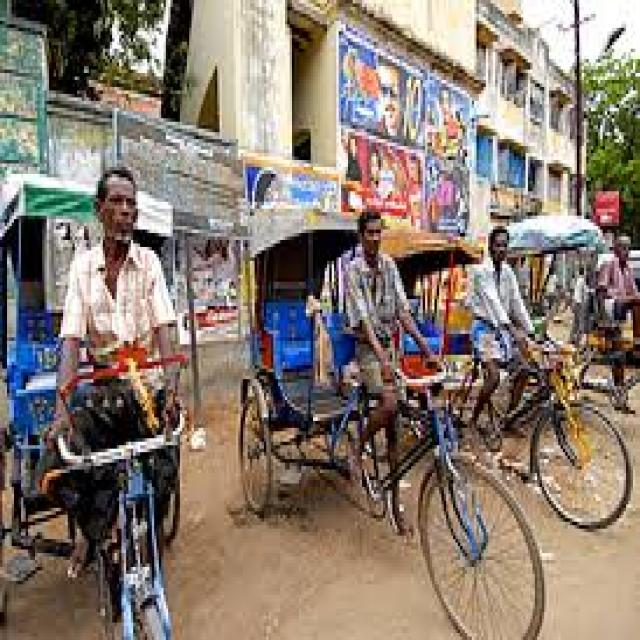bicycle: (239, 210, 545, 638), (0, 166, 185, 639), (384, 227, 629, 528)
